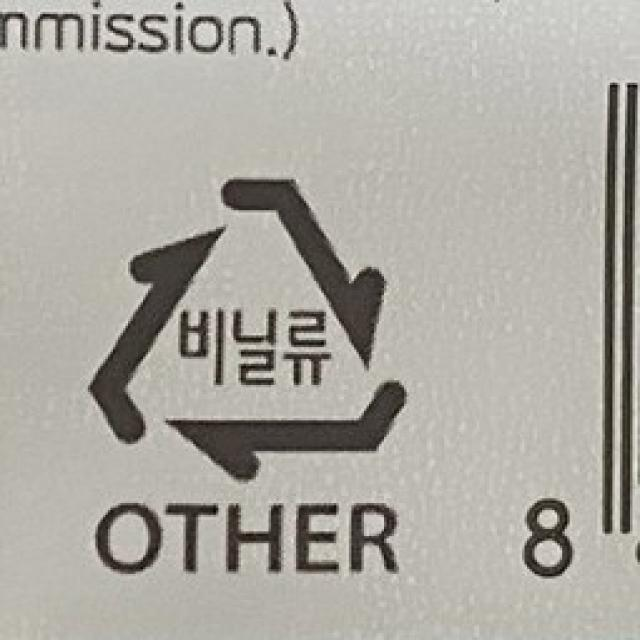Vinyl: (76, 166, 412, 492)
